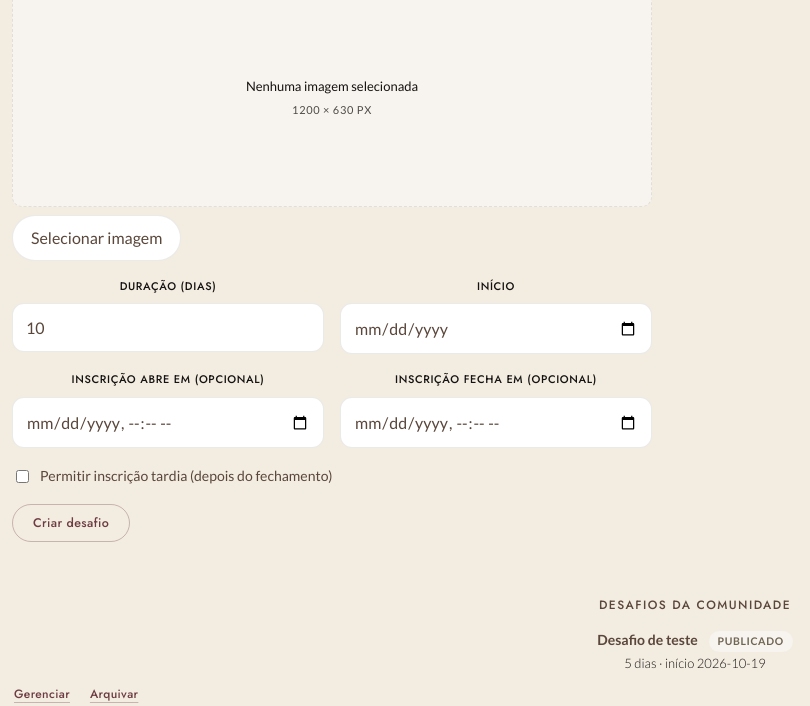
Test: GardenChallengeManager — aba "Publicar incentivo" (Etapas O/P) › seletor de estilo e pré-visualização › mostra a pré-visualização assim que há dia + mensagem, mesmo sem nenhum estilo escolhido
(page scrolled)
Click the button "Gerenciar": (42, 694) [12,682,72,705]
(page scrolled)
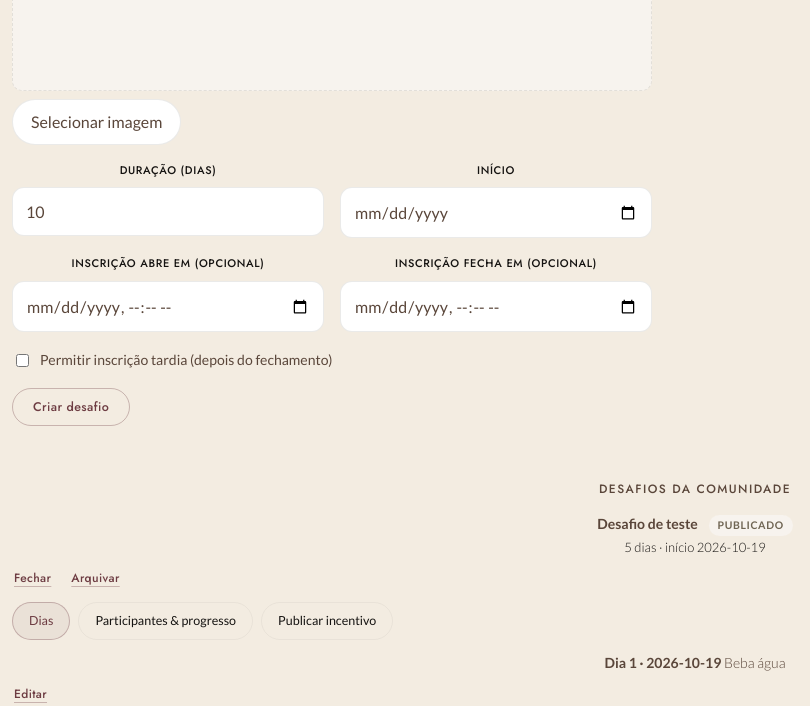
Click the button "Publicar incentivo": (327, 621) [261,602,393,640]
(page scrolled)
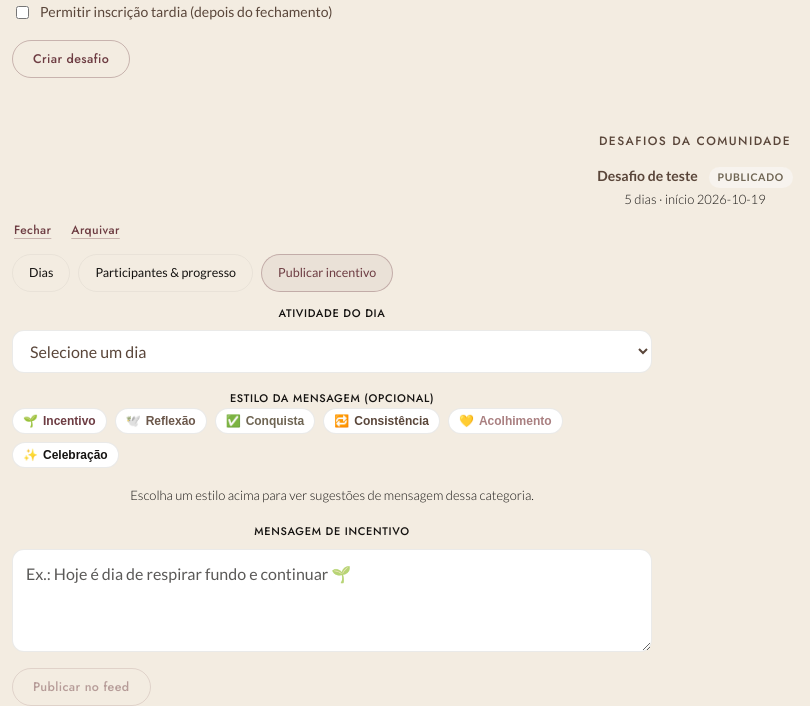
Select "Dia 1 · Beba água (0 concluíram)" in the dropdown labelled "Atividade do dia": (332, 352) [12,330,652,373]
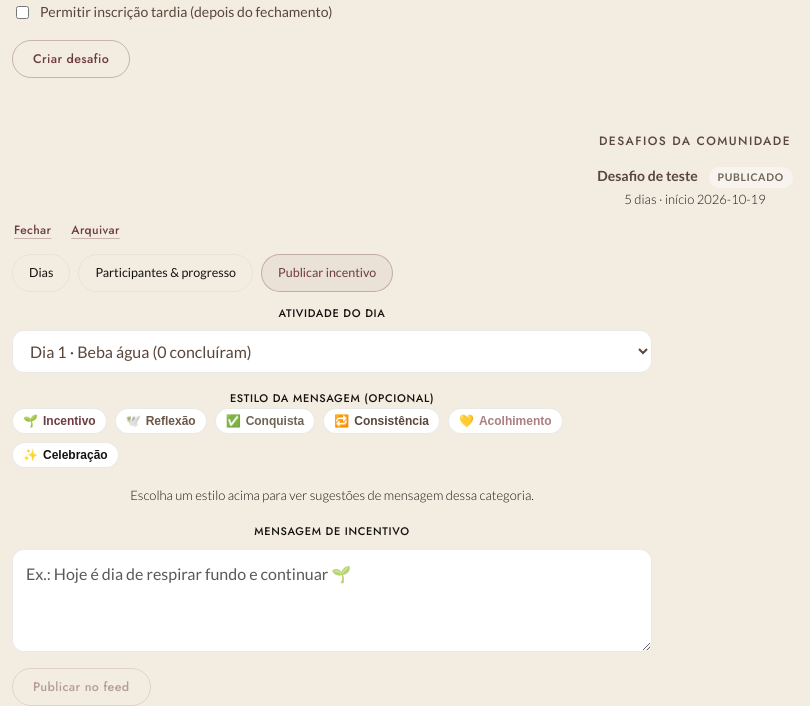
In the text box labelled "Mensagem de incentivo": (332, 601) [12,549,652,652], type "Hoje é dia de respirar fundo."
(page scrolled)
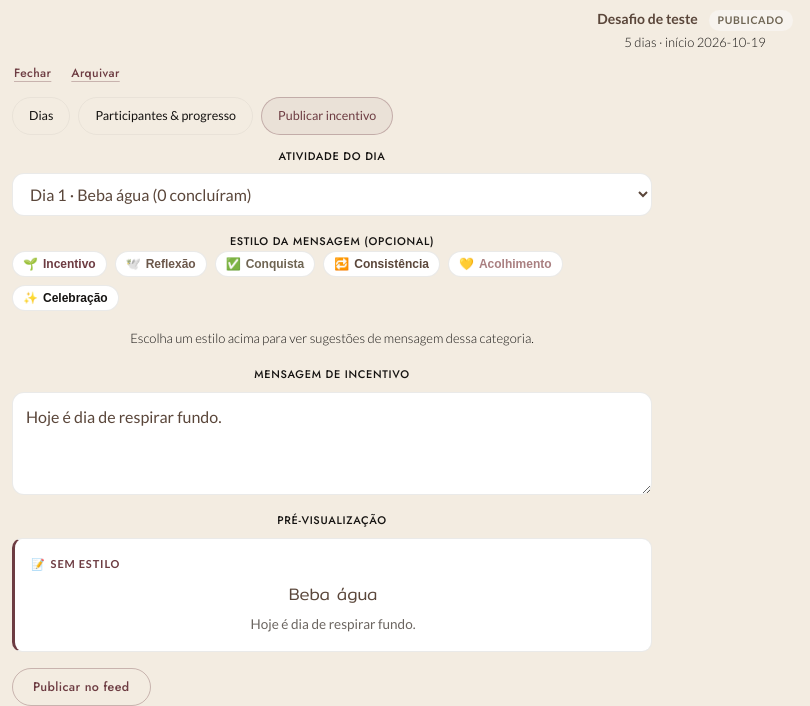
Result: the text "Pré-visualização" is shown at [277,512,387,528]
Result: the element with class "garden-incentive-template" is shown at [12,538,652,652]
Result: the text "Beba água" is shown at [289,581,377,607]
